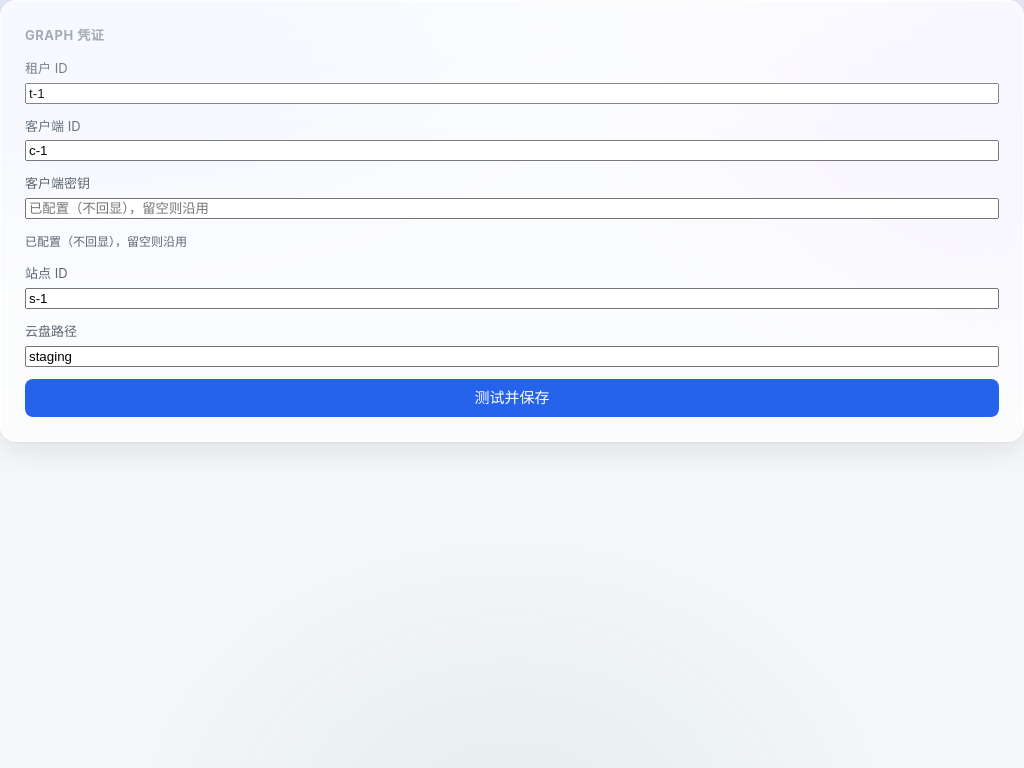
Test: GraphCredentialsPanel（四期的凭证用例，六期随面板拆分搬到这里） › 保存成功后展示五步全绿
Expected: the field labelled "租户 ID" is shown, [25,83,999,104]
Click the button "测试并保存": point(512, 398) [25,379,999,417]
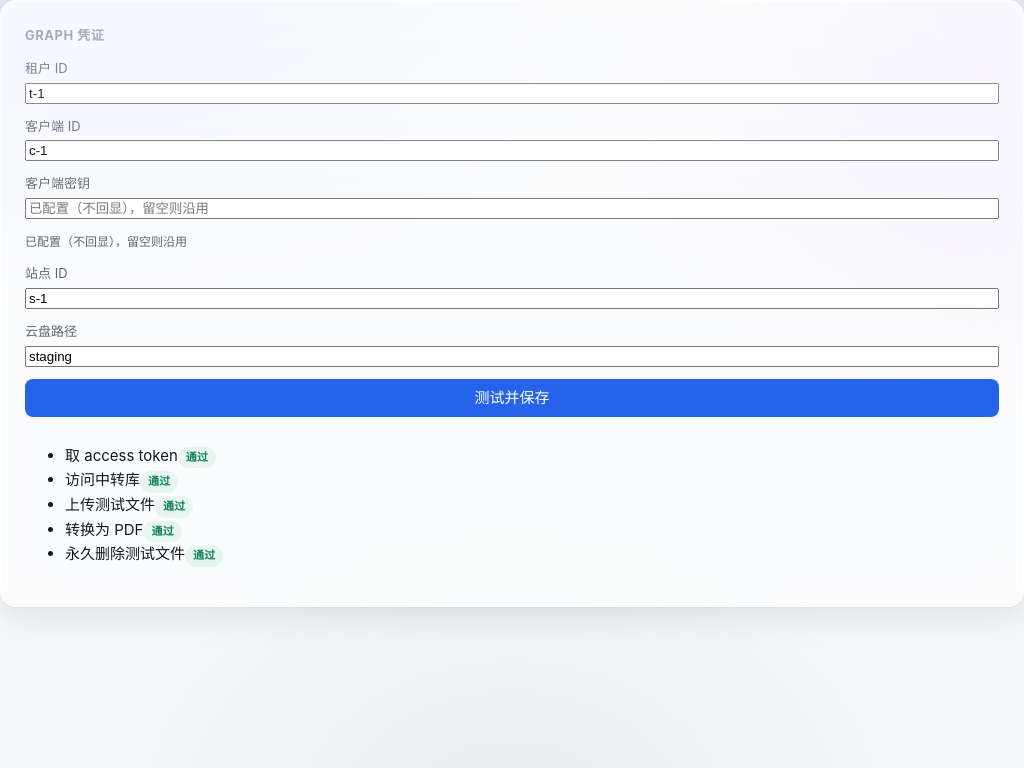
Expected: the text "通过" is shown 5 times, [178,447,216,468]; [140,471,178,493]; [155,496,194,518]; [144,521,182,542]; [185,545,224,567]
